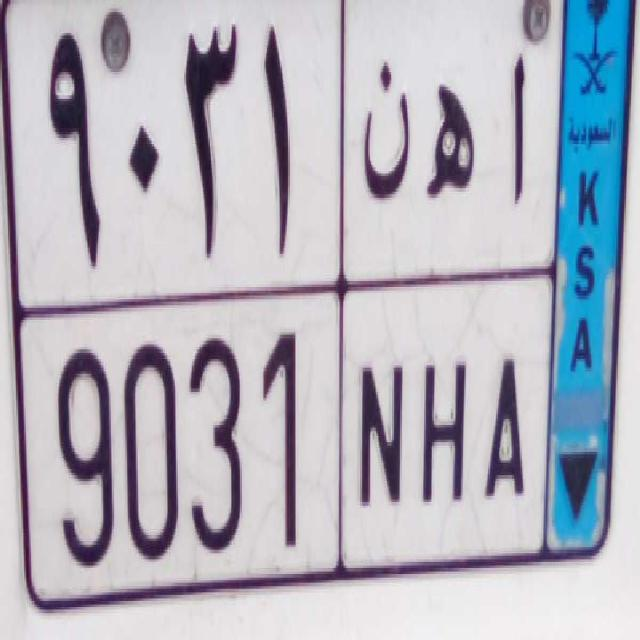license_plate: (19, 287, 550, 594)
